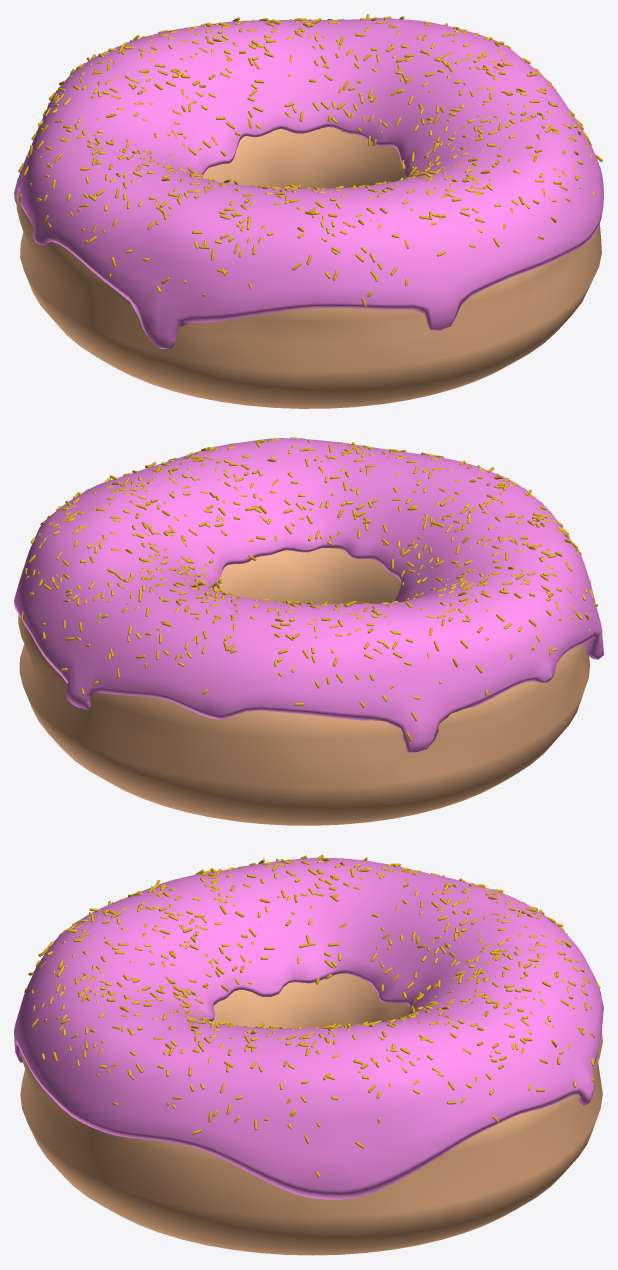
Rendered from donut.glb.
3 renders of one model, top to bottom at view 1: azimuth 30°, elevation 25°; view 2: azimuth 150°, elevation 25°; view 3: azimuth 270°, elevation 25°, orthographic.
Visible parts, largest first — view 1: Icing.001, Donut.001; view 2: Icing.001, Donut.001; view 3: Icing.001, Donut.001.
Part boxes in pixels (x1,y1,x2,y2): Icing.001: (14,18,603,349); Donut.001: (16,127,601,408); Icing.001: (14,438,603,753); Donut.001: (18,548,589,825); Icing.001: (14,857,603,1199); Donut.001: (20,973,602,1255).
Size of the model in its own units: 0.1559 by 0.0616 by 0.1519.
